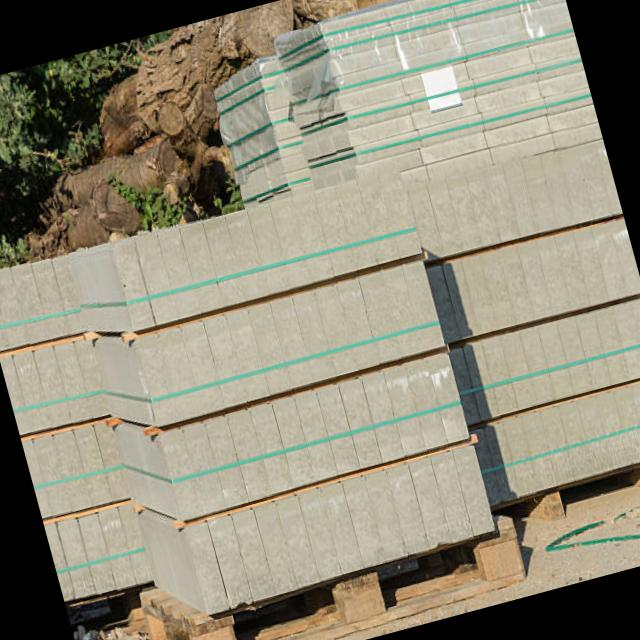Wooden-Pallets: (183, 519, 529, 640)
